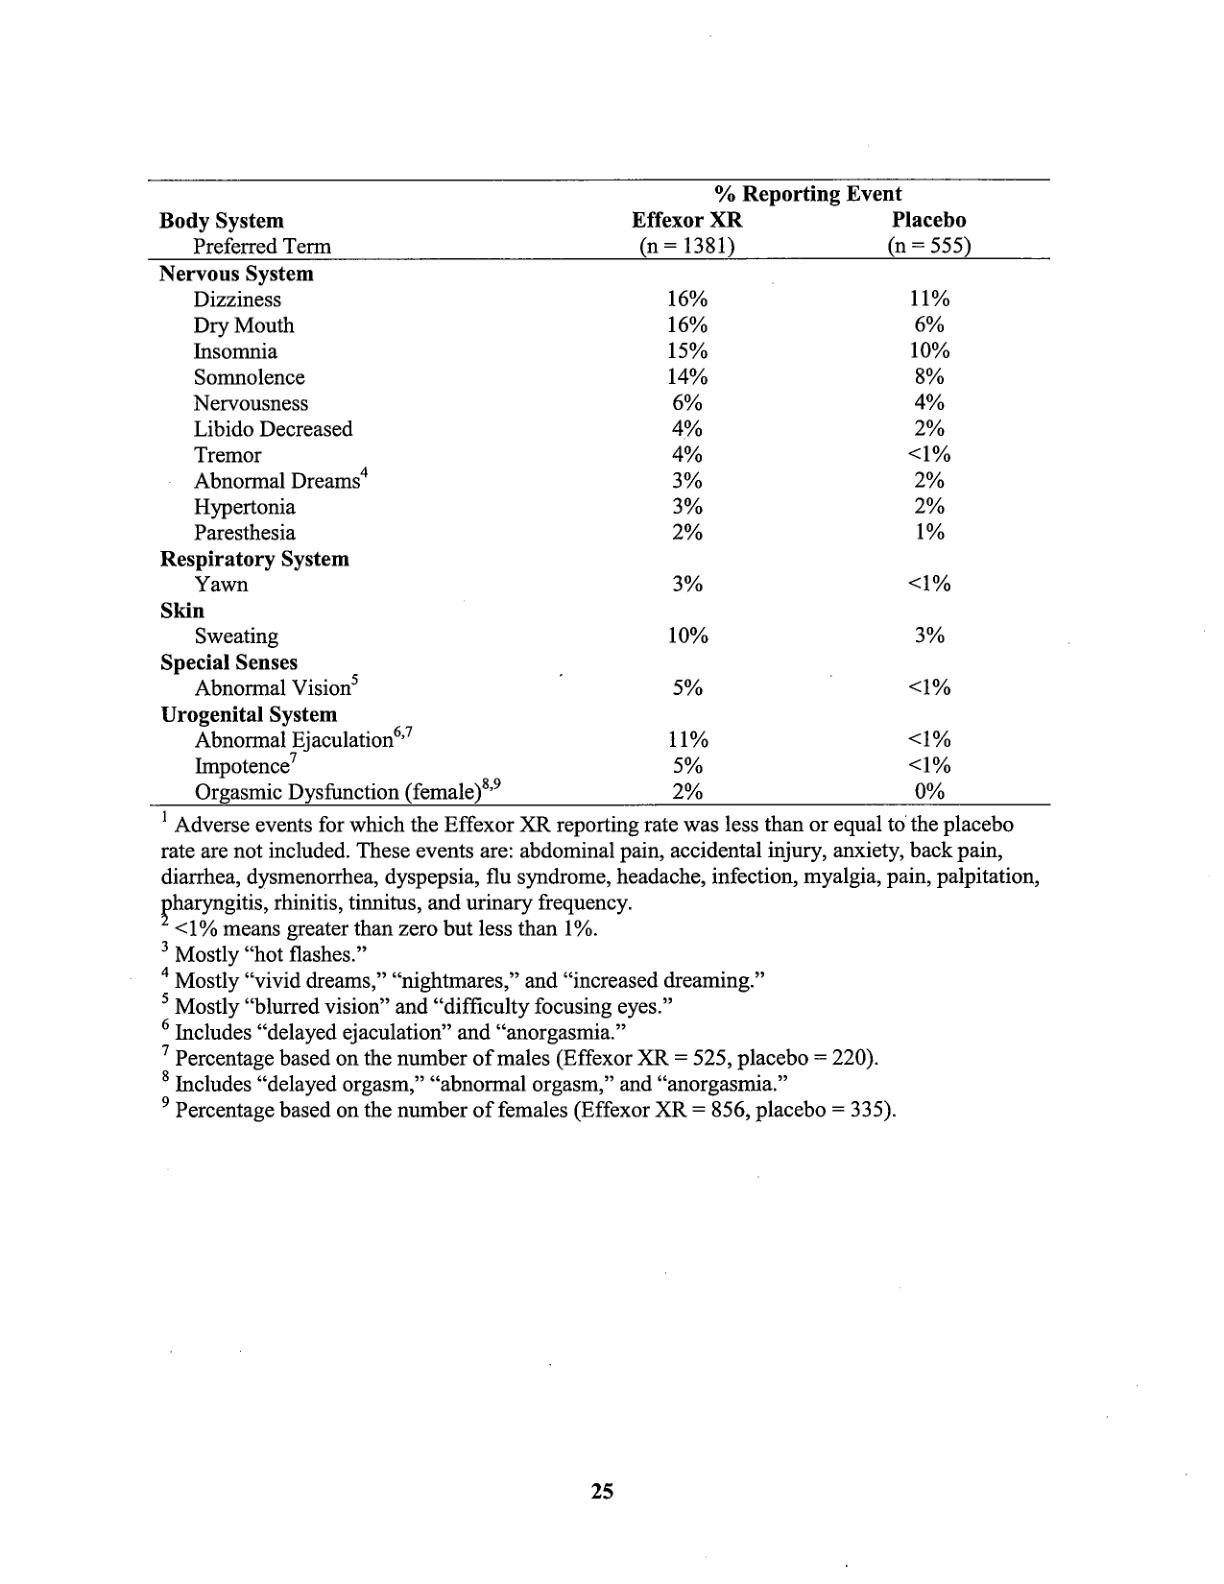partial_lined_merged_cells: (145, 177, 1056, 807)
